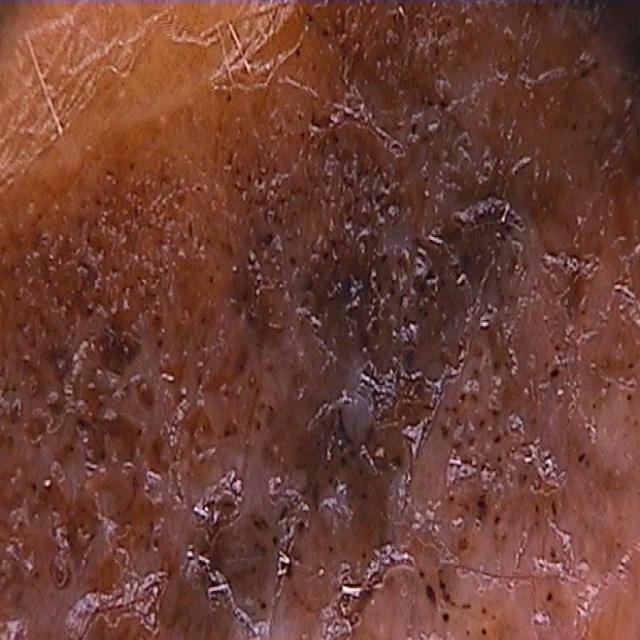Melanoma: (0, 143, 595, 640)
